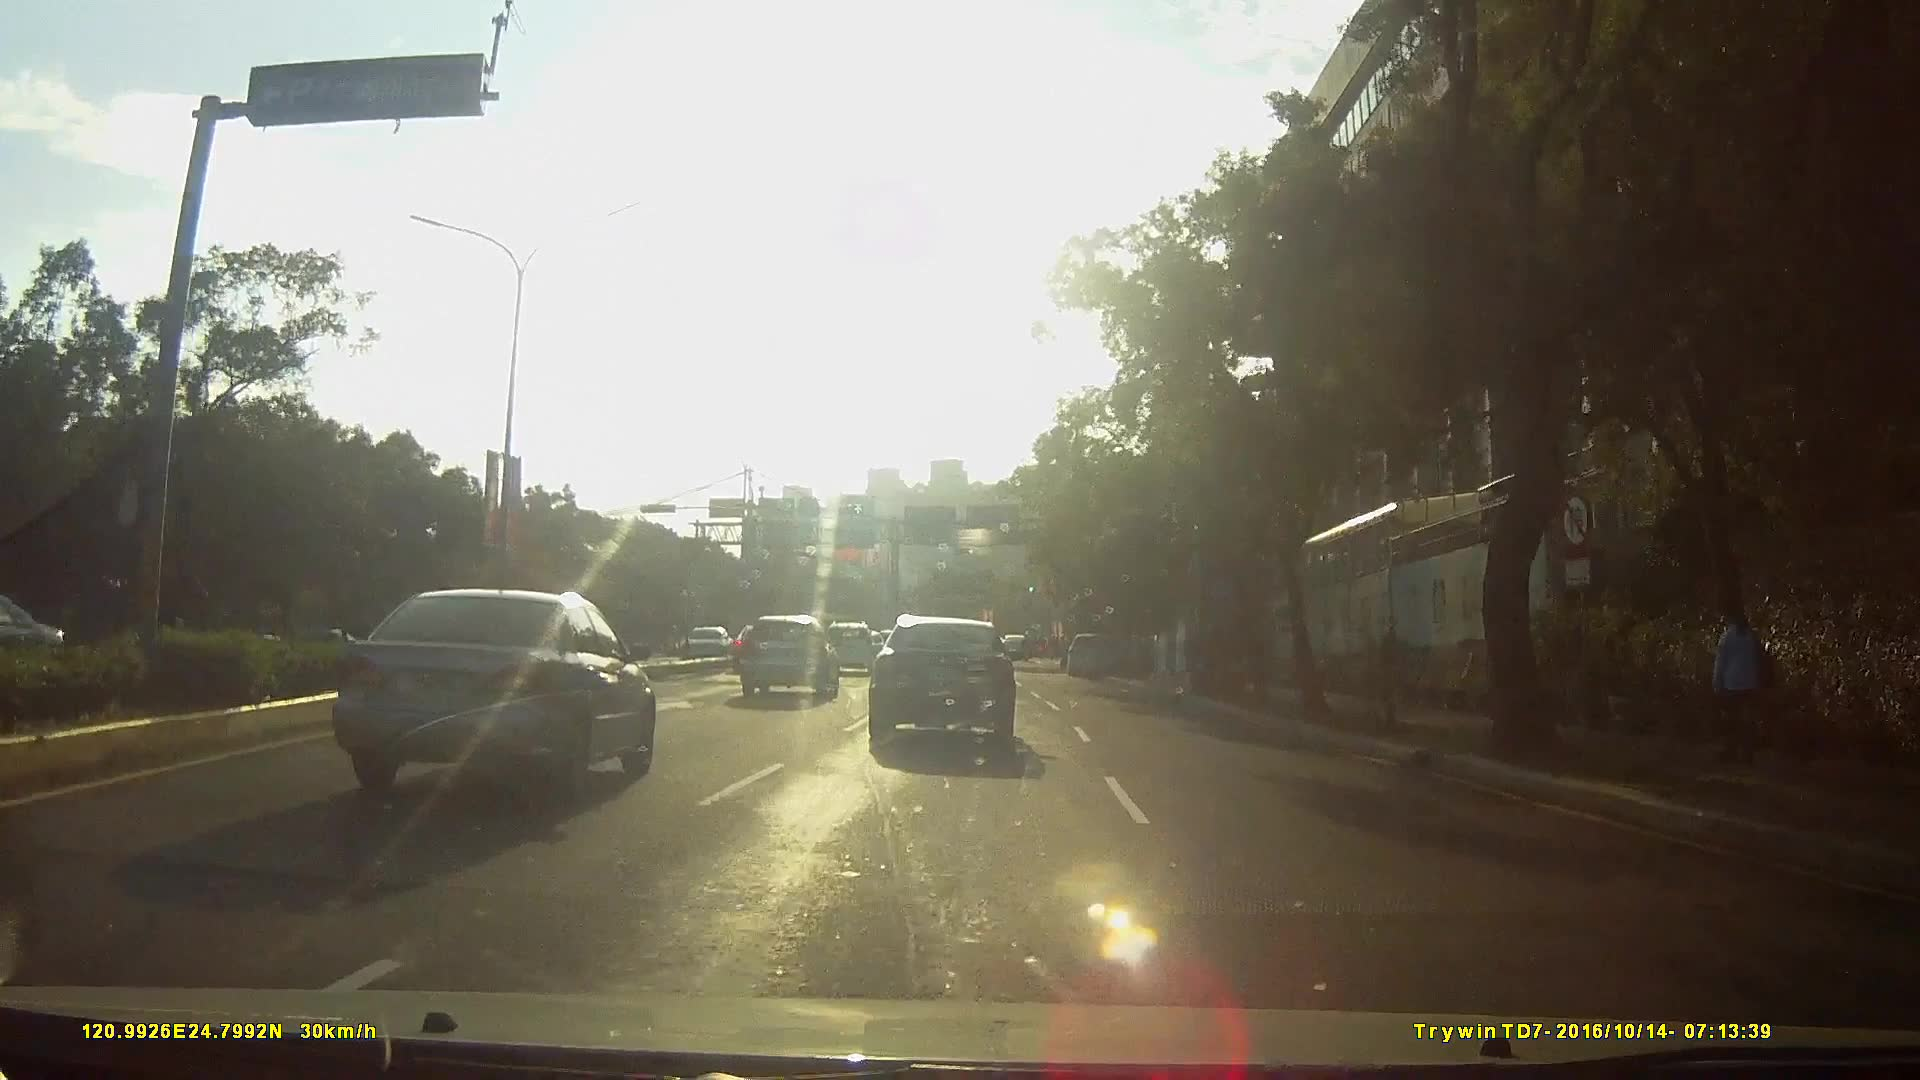pedestrian: (1715, 592, 1780, 771)
vehicle: (307, 583, 666, 807), (866, 612, 1036, 758), (732, 610, 835, 701), (1, 582, 79, 698), (814, 616, 873, 674), (677, 619, 738, 664), (1063, 628, 1115, 676)
